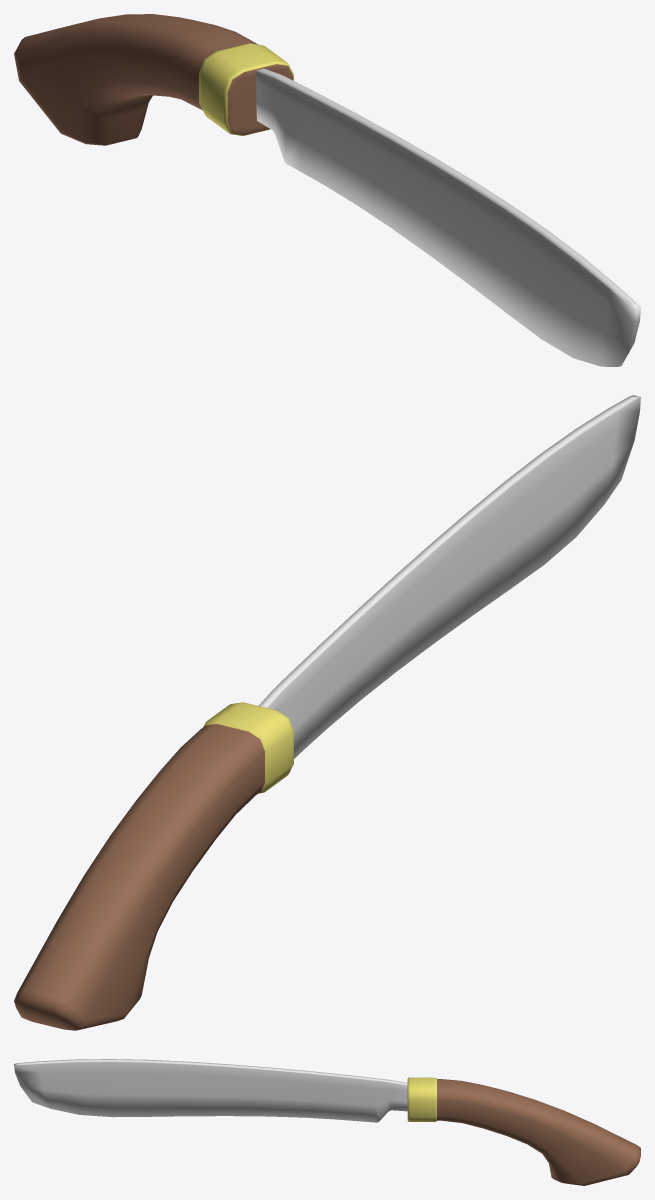
The model's file is parang.fbx.
3 renders of one model, top to bottom at view 1: azimuth 30°, elevation 25°; view 2: azimuth 150°, elevation 25°; view 3: azimuth 270°, elevation 25°, orthographic. The views are drawn at different scales.
Visible parts, largest first — view 1: Cube.001; view 2: Cube.001; view 3: Cube.001.
Part boxes in pixels (x1,y1,x2,y2): Cube.001: (14, 14, 640, 366); Cube.001: (14, 395, 640, 1030); Cube.001: (14, 1059, 640, 1185).
Bounding box in the file's own units: 32.38 × 103 × 489.
